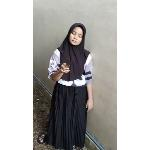Pisau: (61, 56, 73, 72)
